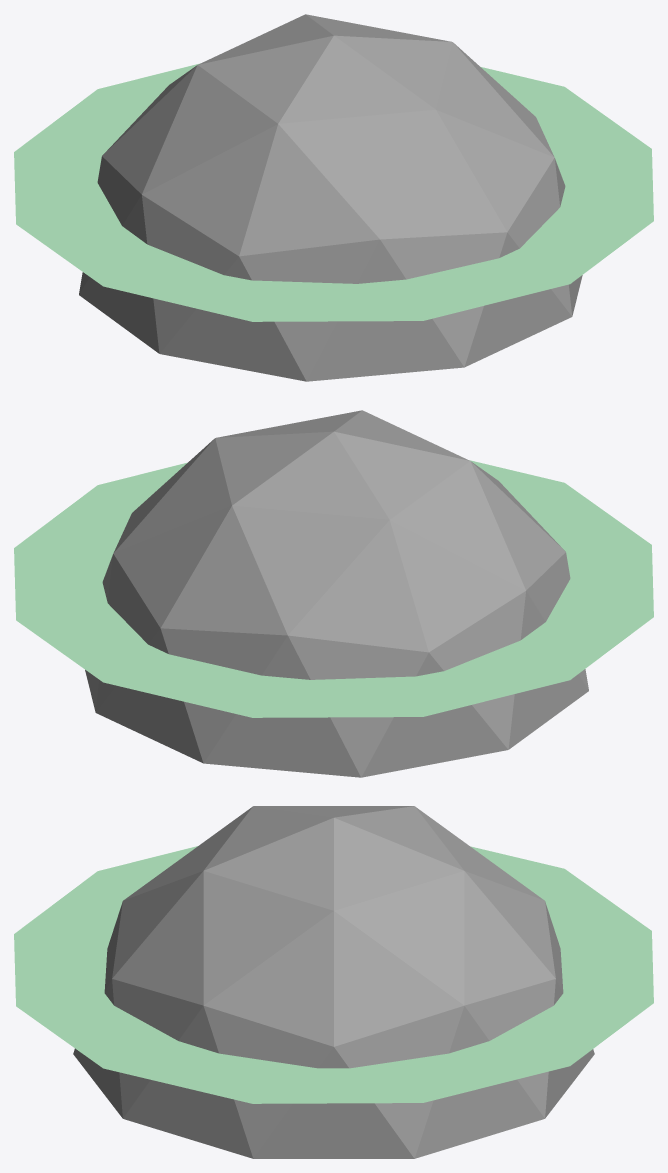
Rendered from IonizedRise_CoockingPot_Ready.fbx.
3 renders of one model, top to bottom at view 1: azimuth 30°, elevation 25°; view 2: azimuth 150°, elevation 25°; view 3: azimuth 270°, elevation 25°, orthographic.
Parts seen in each view (by area): view 1: IonizedRise_CoockingPot_Ready; view 2: IonizedRise_CoockingPot_Ready; view 3: IonizedRise_CoockingPot_Ready.
Part boxes in pixels (x1,y1,x2,y2): IonizedRise_CoockingPot_Ready: [14, 14, 653, 381]; IonizedRise_CoockingPot_Ready: [14, 410, 653, 777]; IonizedRise_CoockingPot_Ready: [14, 806, 653, 1158].
Size of the model in its own units: 55.5 by 55.5 by 22.62.
